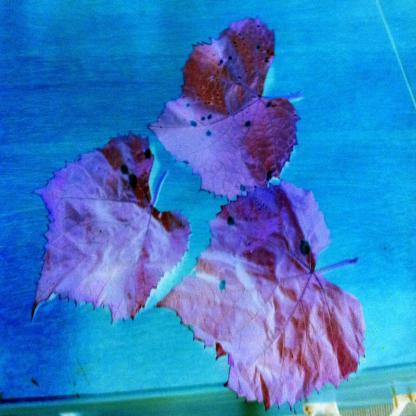grape leaf: (164, 175, 364, 408), (152, 9, 301, 190)
